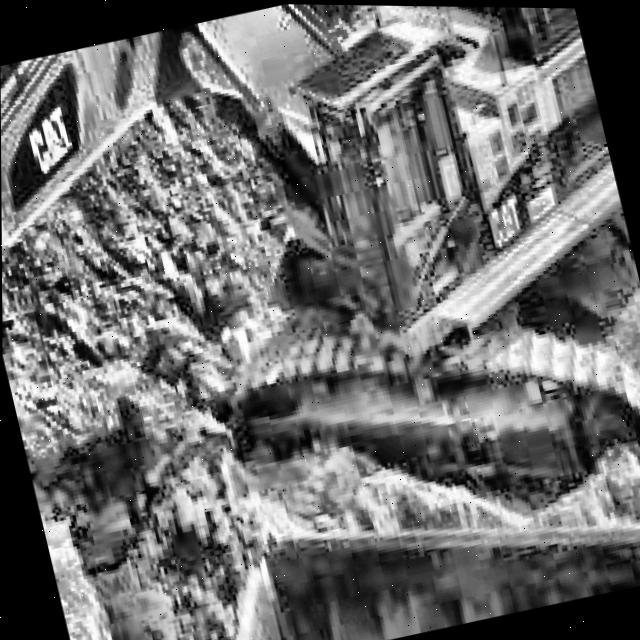excavator: (0, 0, 640, 599)
